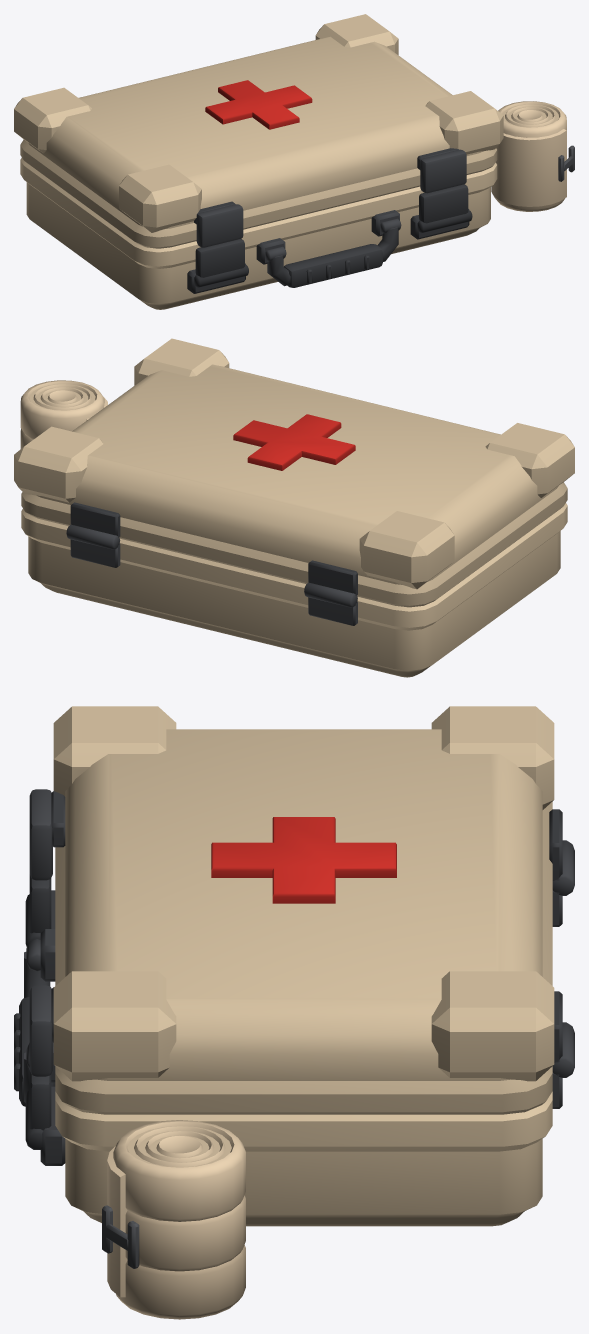
The model's file is med_kit.glb.
3 views of the same model, one above another, from view 1: azimuth 30°, elevation 25°; view 2: azimuth 150°, elevation 25°; view 3: azimuth 270°, elevation 25° (orthographic). The views are drawn at different scales.
Parts seen in each view (by area): view 1: case_lid, case_bottom, bandage, handle, latch_left, latch_right, red_cross, bandage_clip; view 2: case_lid, case_bottom, red_cross, bandage; view 3: case_lid, case_bottom, bandage, red_cross, latch_right, latch_left, handle, bandage_clip.
Part boxes in pixels (x1,y1,x2,y2): case_lid: (14,14,503,248); case_bottom: (20,157,497,309); bandage: (491,101,566,211); handle: (265,218,401,287); latch_left: (194,204,248,287); latch_right: (417,149,472,233); red_cross: (205,80,312,129); bandage_clip: (558,145,574,181); case_lid: (14,338,574,607); case_bottom: (21,503,567,677); red_cross: (233,414,355,470); bandage: (20,380,107,448); case_lid: (51,706,562,1114); case_bottom: (40,840,574,1226); bandage: (107,1120,245,1319); red_cross: (211,817,396,903); latch_right: (25,985,52,1149); latch_left: (25,789,52,946); handle: (14,939,55,1106); bandage_clip: (102,1205,139,1268).
Size of the model in its own units: 0.563 by 0.1545 by 0.3385.
